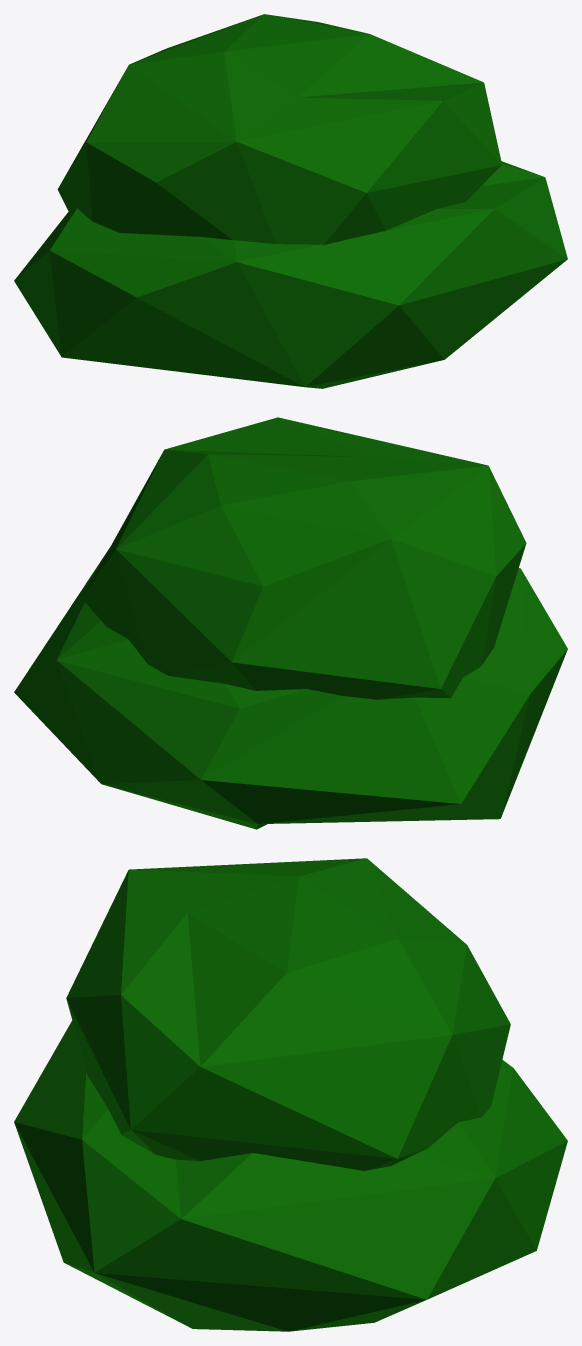
File: secondBush.fbx
3 renders of one model, top to bottom at view 1: azimuth 30°, elevation 25°; view 2: azimuth 150°, elevation 25°; view 3: azimuth 270°, elevation 25°, orthographic. The views are drawn at different scales.
Parts seen in each view (by area): view 1: Icosphere.001; view 2: Icosphere.001; view 3: Icosphere.001.
Boxes of the visible parts, x1,y1,x2,y2 form: Icosphere.001: [14, 14, 567, 388]; Icosphere.001: [14, 417, 567, 829]; Icosphere.001: [14, 858, 567, 1331].
Bounding box in the file's own units: 146 × 99.31 × 133.
